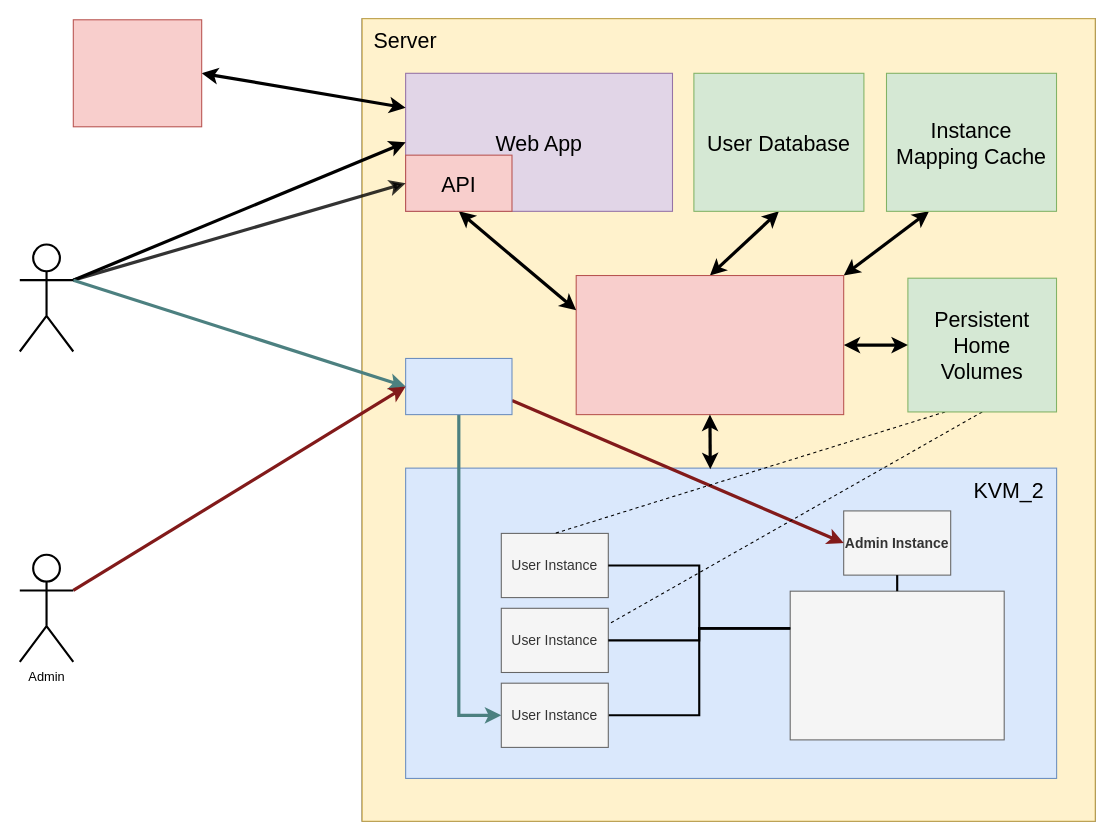
Image size: 1114x840. Some labels were removed from this diagram. The centre of each missing label's shape, as x and y in pixels:
"Backend Logic" goes at pixel 709 344.
"CTF Containers" goes at pixel 896 665.
"SSH_KVM" goes at pixel 458 386.
"User" goes at pixel 46 297.
"VUT Auth" goes at pixel 137 73.
